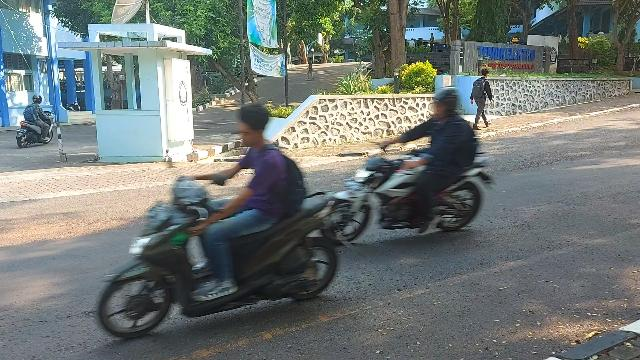helm: (434, 88, 461, 122), (34, 96, 43, 105)
motor: (98, 179, 354, 342), (328, 149, 496, 245), (18, 112, 57, 149)
non-helm: (239, 106, 269, 147)
